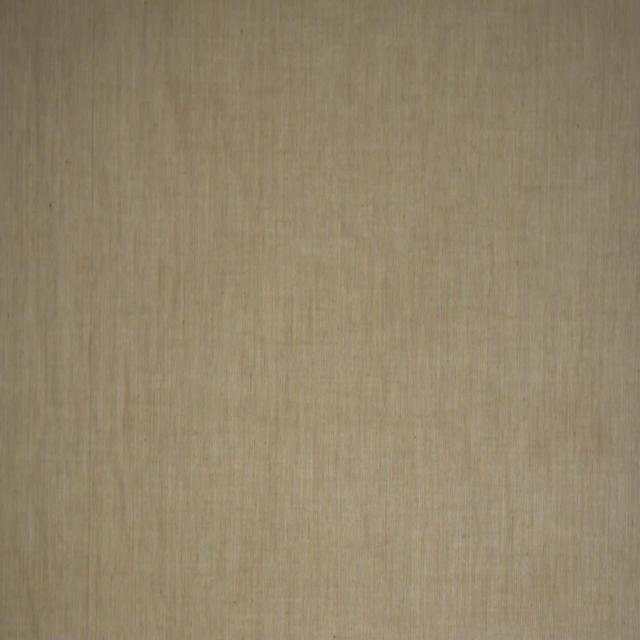dirty: (597, 429, 608, 465)
